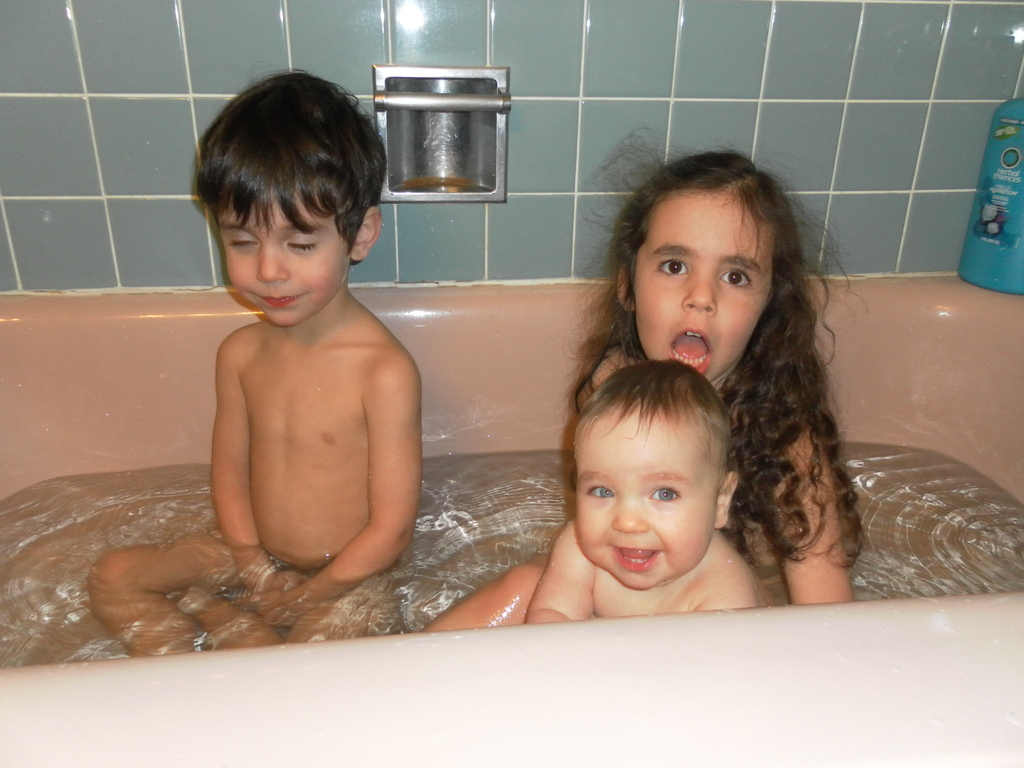Human-face: (634, 193, 772, 382), (573, 420, 717, 591), (217, 192, 347, 325)
